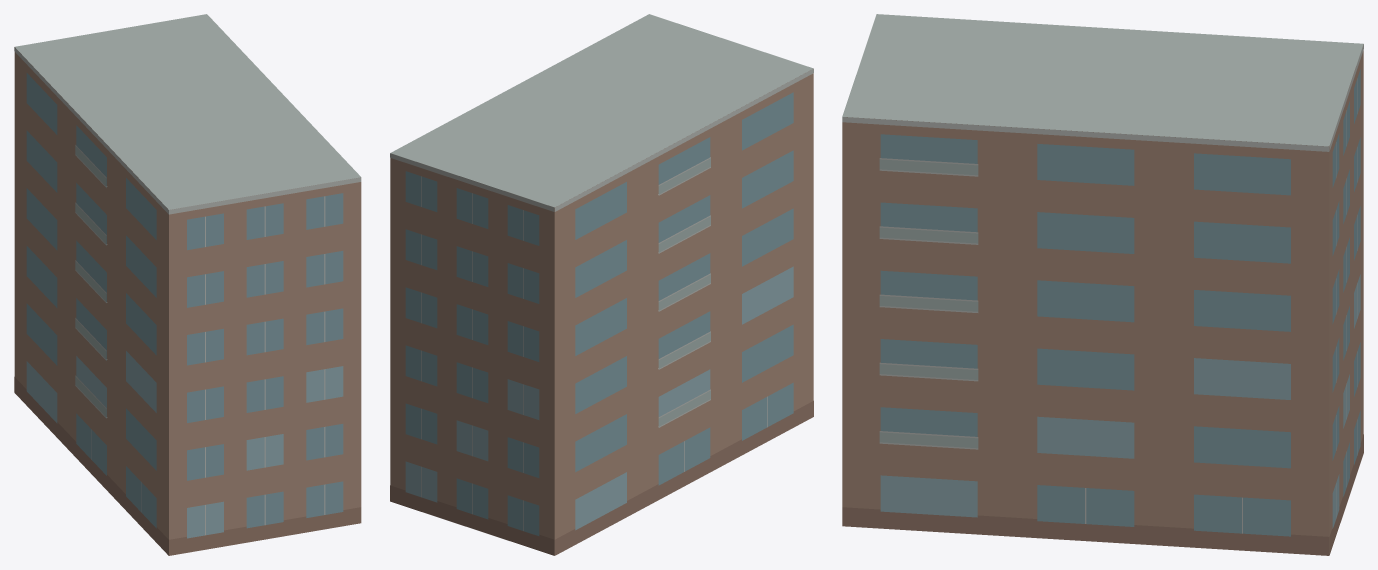
The model's file is survey-upis-32929623.glb.
3 views of the same model, side by side, from view 1: azimuth 30°, elevation 25°; view 2: azimuth 150°, elevation 25°; view 3: azimuth 270°, elevation 25° (orthographic). The views are drawn at different scales.
Parts seen in each view (by area): view 1: survey-upis-32929623.tmp; view 2: survey-upis-32929623.tmp; view 3: survey-upis-32929623.tmp.
Boxes of the visible parts, x1,y1,x2,y2 form: survey-upis-32929623.tmp: [14, 14, 361, 555]; survey-upis-32929623.tmp: [390, 14, 813, 555]; survey-upis-32929623.tmp: [842, 14, 1363, 555].
Bounding box in the file's own units: 12.71 × 18.3 × 21.14.
